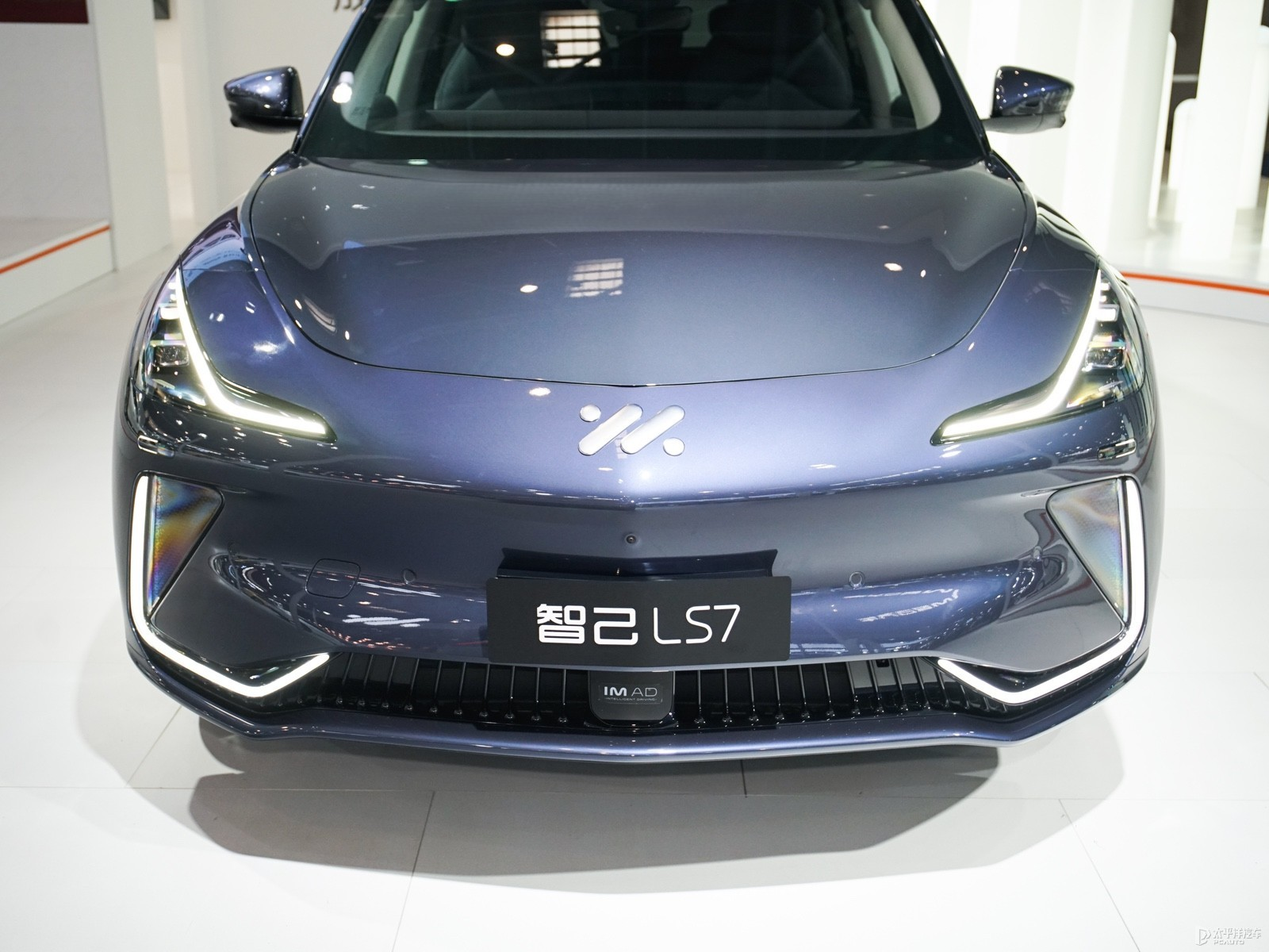IM: (579, 405, 684, 455)
